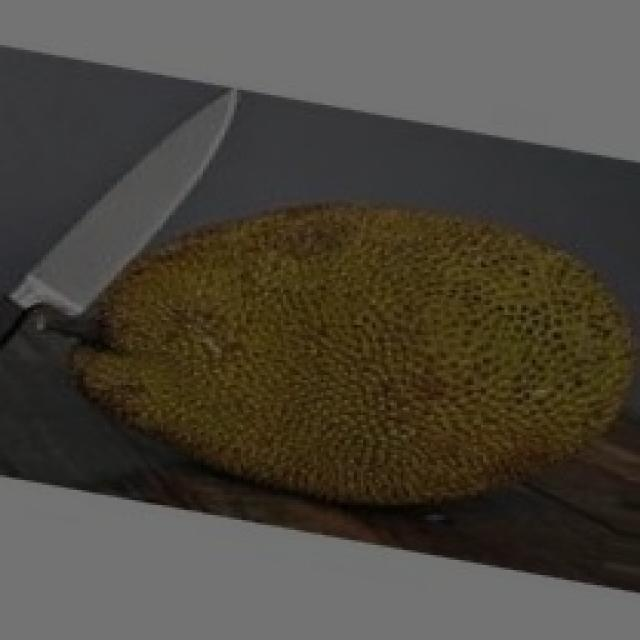Fruit: (243, 142, 640, 568), (31, 160, 424, 562)
